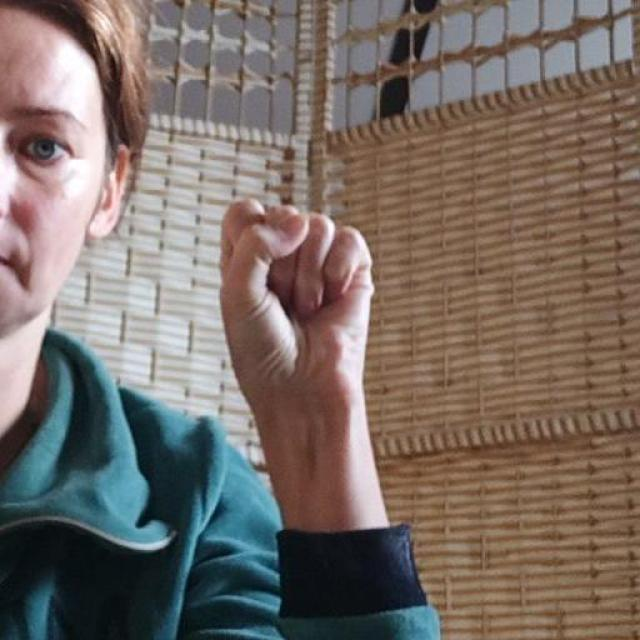hand: (216, 195, 390, 531)
